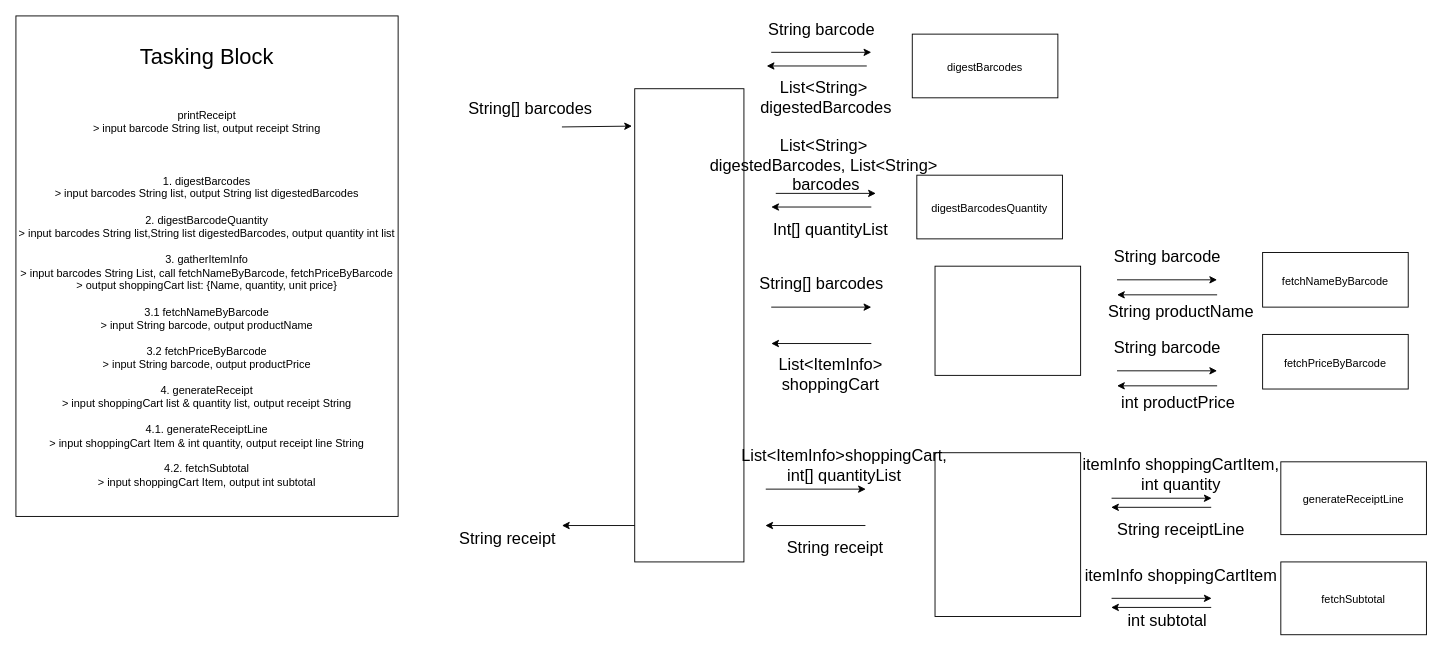
Image size: 1442x651. Some labels were removed from this diagram. Here are the shapes that lost their labels. From the top down, the box of each, then its label:
(634, 88, 744, 562): printReceipt
(934, 265, 1081, 375): gatherItemInfo
(934, 452, 1081, 617): generateReceipt
